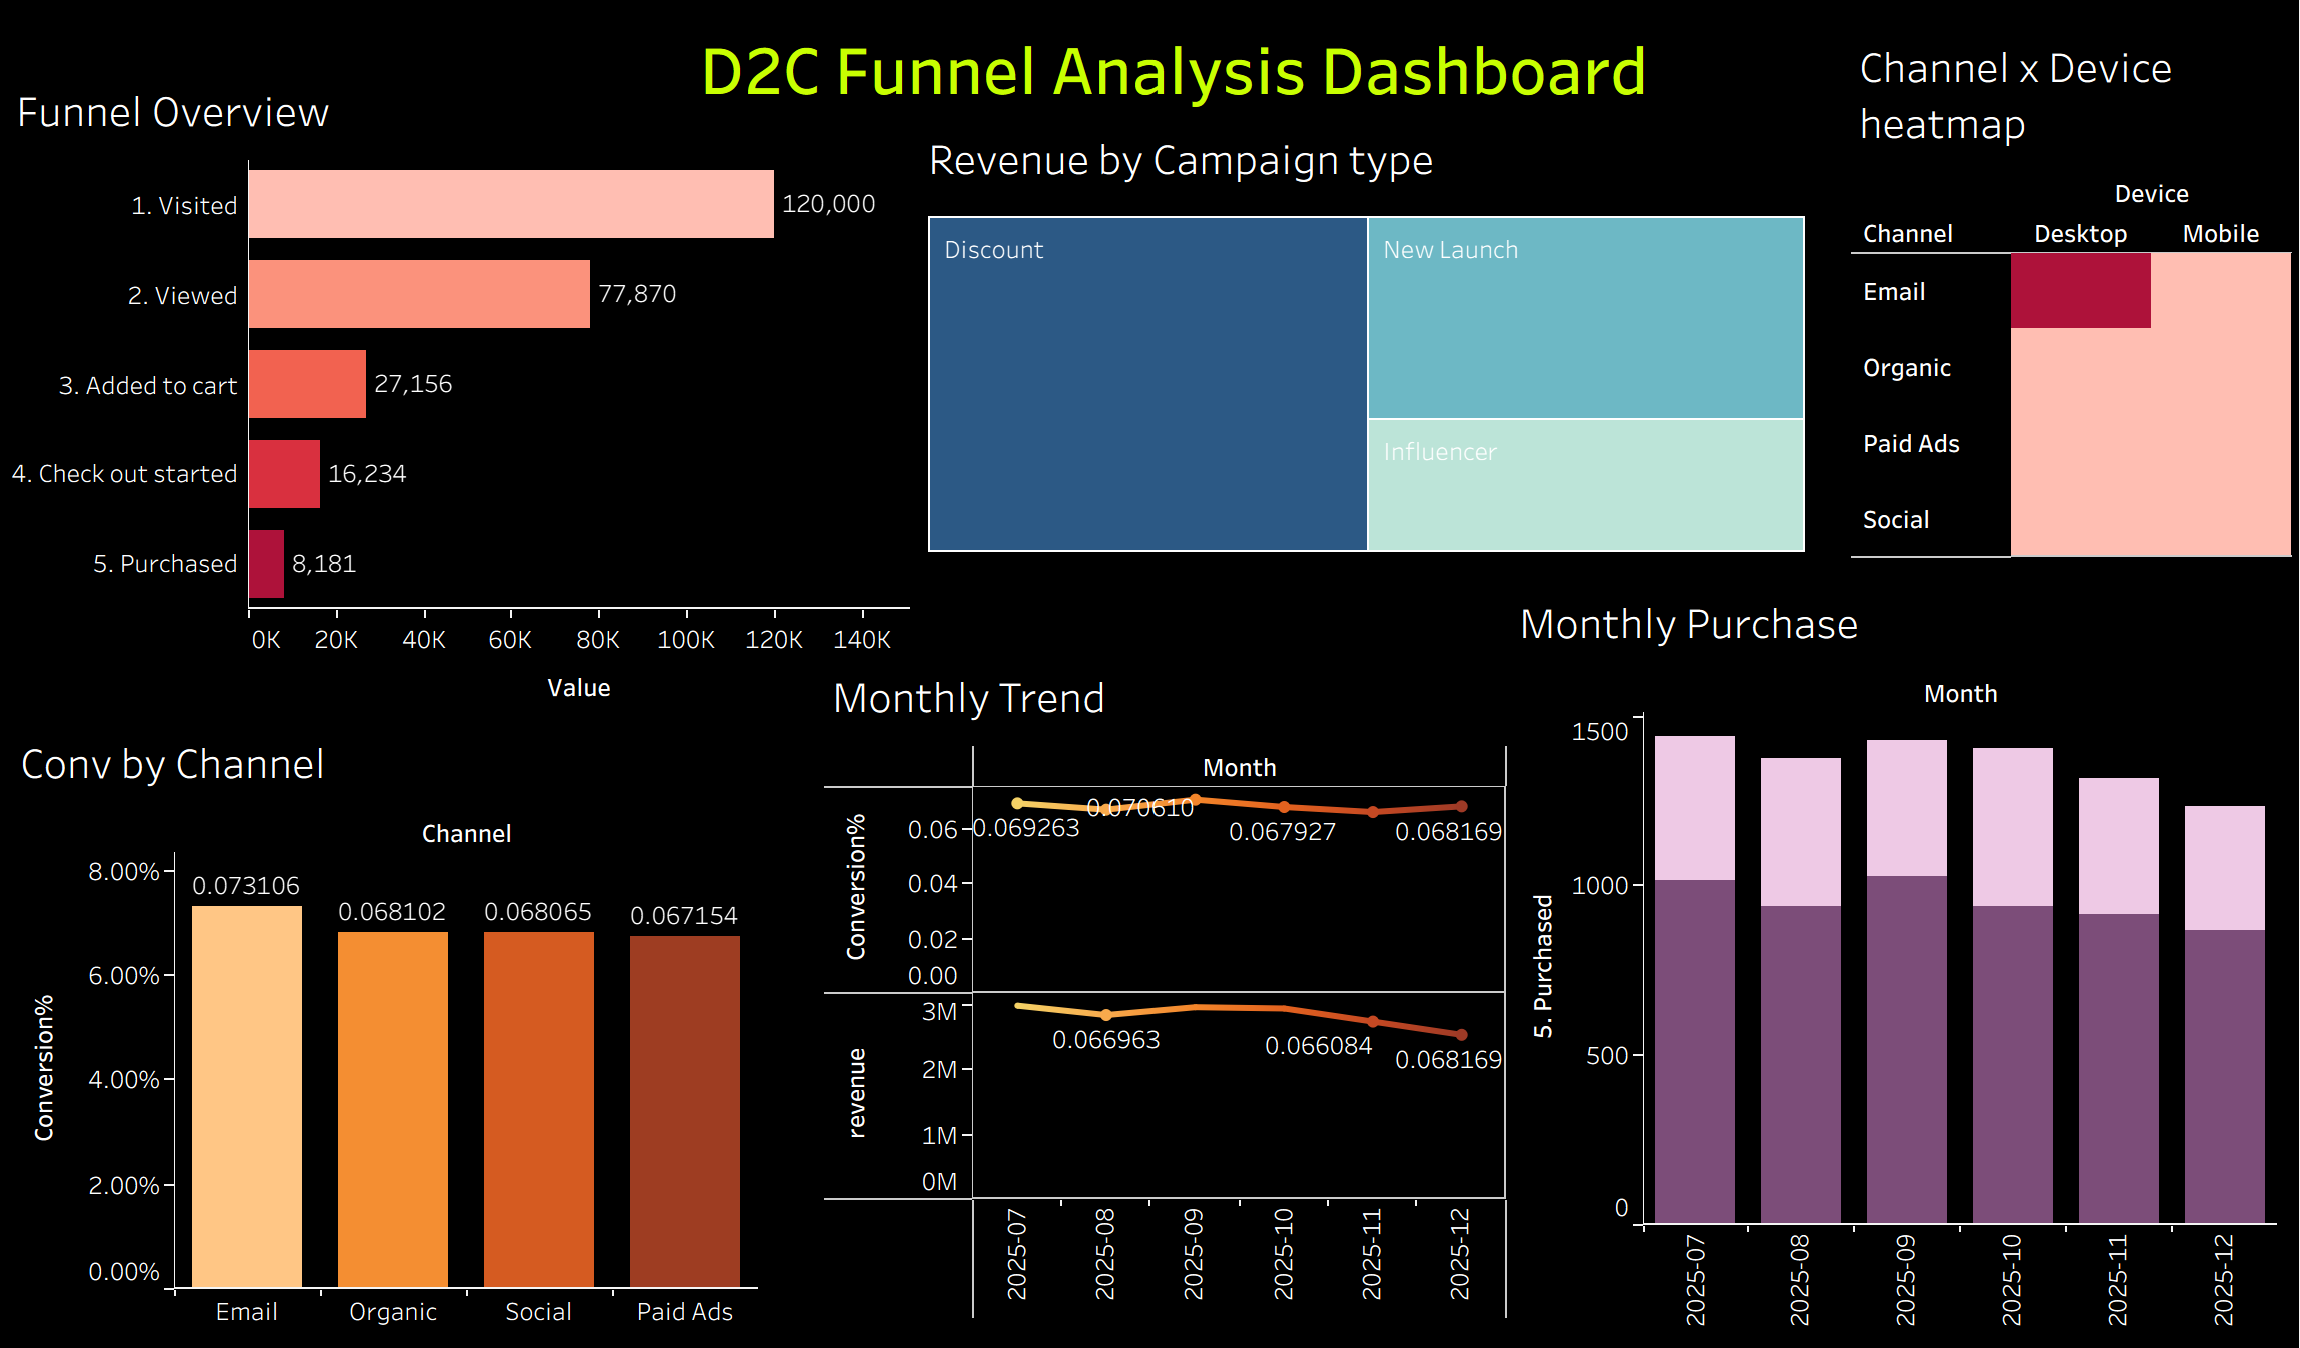

The dashboard page shown, as its layout file describes it:
{"tool":"tableau","page":{"name":"Dashboard 1","canvas":[1000,1000],"units":"permille","ordinal":0},"visuals":[{"type":"title","box":[7,11.8,986.1,76.8]},{"type":"worksheet","title":"Channel x Device heatmap","mark":"Automatic","rows":["channel"],"cols":["device"],"box":[805.2,22.2,192.2,390]},{"type":"worksheet","title":"Funnel Overview","mark":"Bar","box":[4.4,54.6,392.2,475.6]},{"type":"worksheet","title":"Revenue by Campaign type","mark":"Automatic","box":[400.9,90.1,387,323.5]},{"type":"worksheet","title":"Monthly Purchase","mark":"Automatic","rows":["Calculation_2719394462883847"],"cols":["month"],"box":[657.4,432.8,333,559.8]},{"type":"worksheet","title":"Monthly Trend","mark":"Line","rows":["Calculation_2719394482053129","revenue"],"cols":["month"],"box":[359.1,487.4,296.5,487.4]},{"type":"worksheet","title":"Conv by Channel","mark":"Automatic","rows":["Calculation_2719394482053129"],"cols":["channel"],"box":[6.1,536.2,324.4,446.1]}]}

Visuals, with their boxes on the dashboard's canvas, which has no fixed pixel size, in thousandths of its width and height (x1, y1, x2, y2). These are canvas units, not pixel positions in the 2300x1348 screenshot, which may show the page scaled, cropped or inside an application window:
title: [7,12,993,89]
"Channel x Device heatmap" worksheet: [805,22,997,412]
"Funnel Overview" worksheet (Bar marks): [4,55,397,530]
"Revenue by Campaign type" worksheet: [401,90,788,414]
"Monthly Purchase" worksheet: [657,433,990,993]
"Monthly Trend" worksheet (Line marks): [359,487,656,975]
"Conv by Channel" worksheet: [6,536,330,982]
